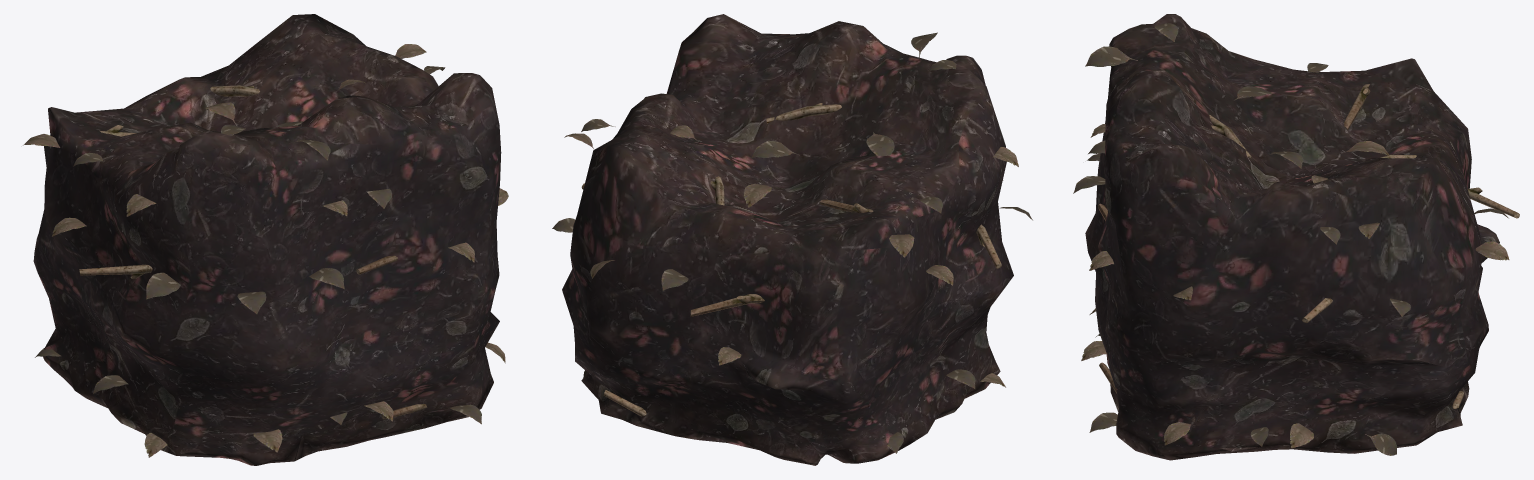
The picture shows the model from 3 angles, left to right: view 1: azimuth 30°, elevation 25°; view 2: azimuth 150°, elevation 25°; view 3: azimuth 270°, elevation 25°; orthographic projection. The views are drawn at different scales.
Visible parts, largest first — view 1: SM_Compost_Regular_01v3_LOD0; view 2: SM_Compost_Regular_01v3_LOD0; view 3: SM_Compost_Regular_01v3_LOD0.
Part boxes in pixels (x1=…): SM_Compost_Regular_01v3_LOD0: x1=23, y1=14, x2=508, y2=465; SM_Compost_Regular_01v3_LOD0: x1=552, y1=14, x2=1032, y2=465; SM_Compost_Regular_01v3_LOD0: x1=1073, y1=14, x2=1519, y2=460.
Size of the model in its own units: 1.2 by 0.915 by 1.16.
